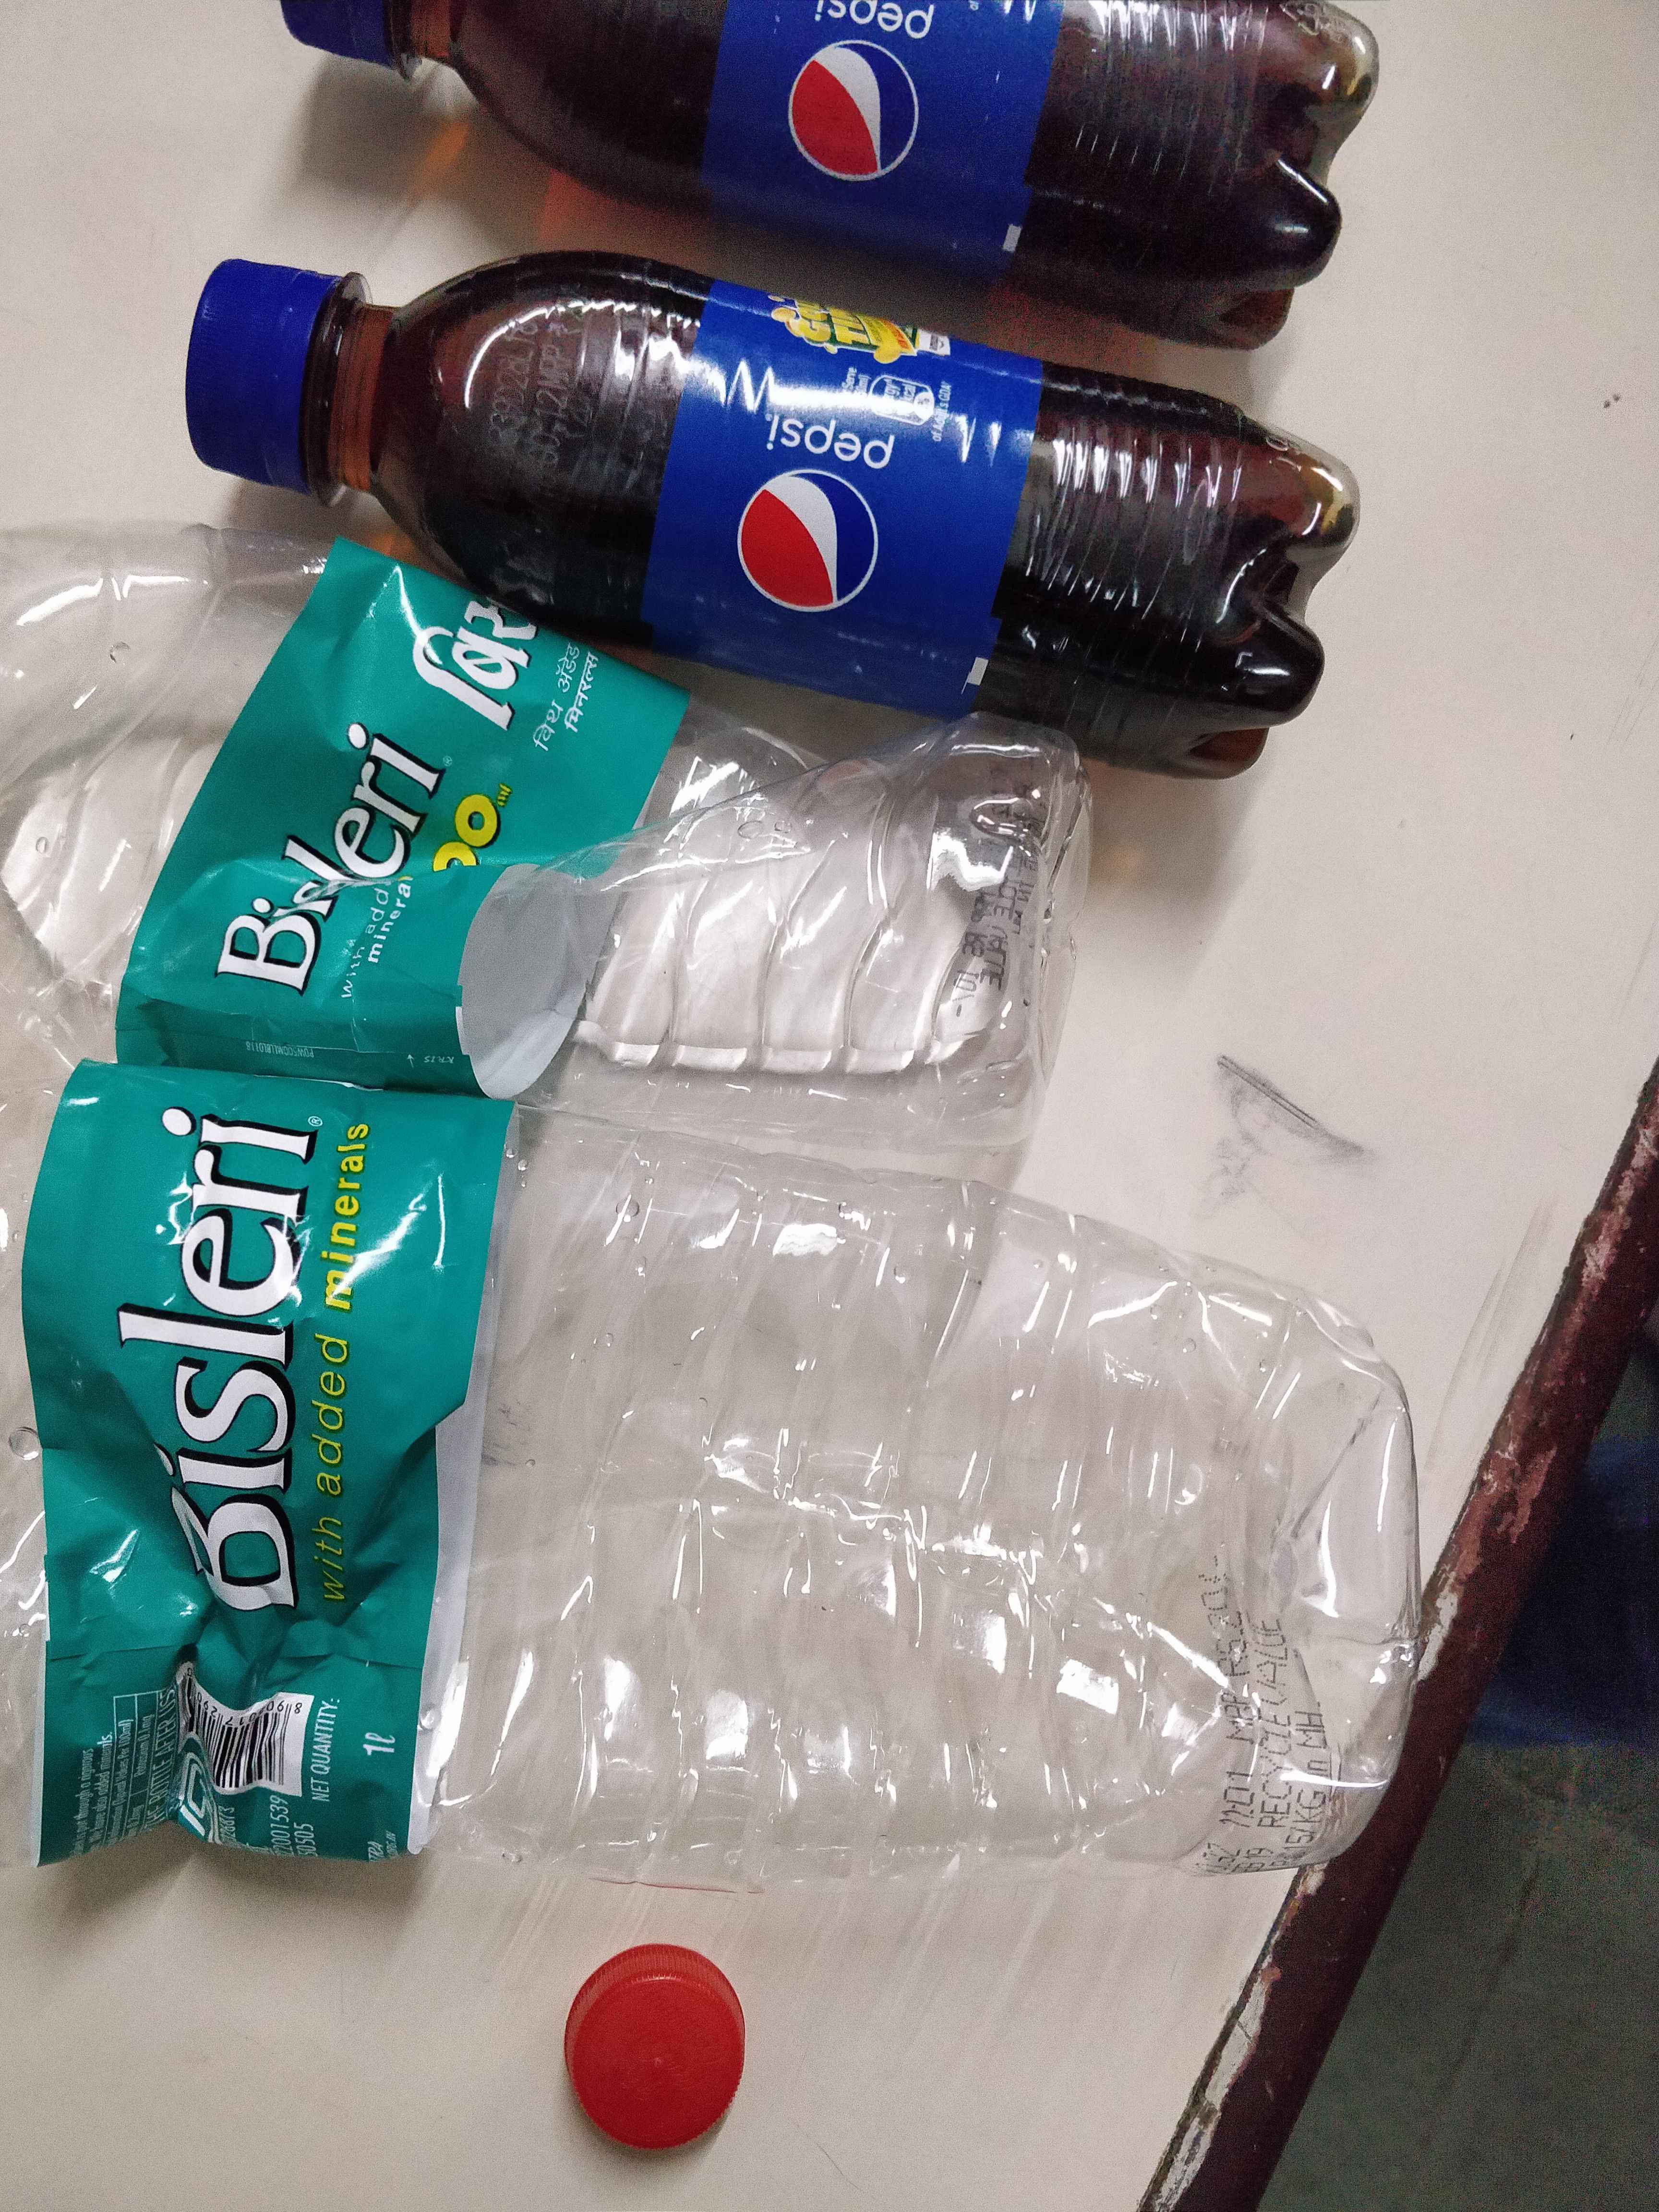Bisleri: (103, 1069, 411, 1813), (192, 597, 532, 1052)
pepsi: (695, 336, 960, 665), (756, 0, 978, 230)
